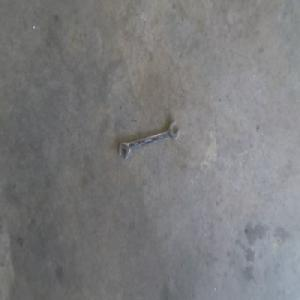Wrench: (117, 120, 182, 161)
